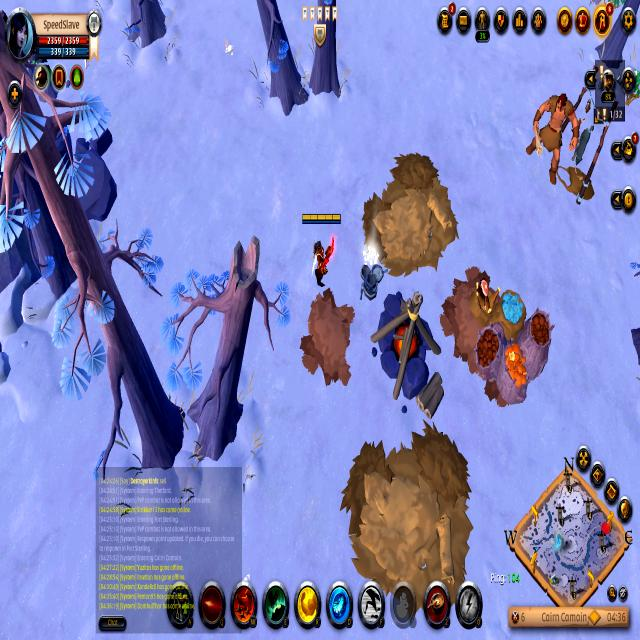hide: (623, 59, 640, 116)
ore: (524, 86, 582, 190)
red: (300, 211, 342, 296)
stone: (361, 238, 382, 279)
